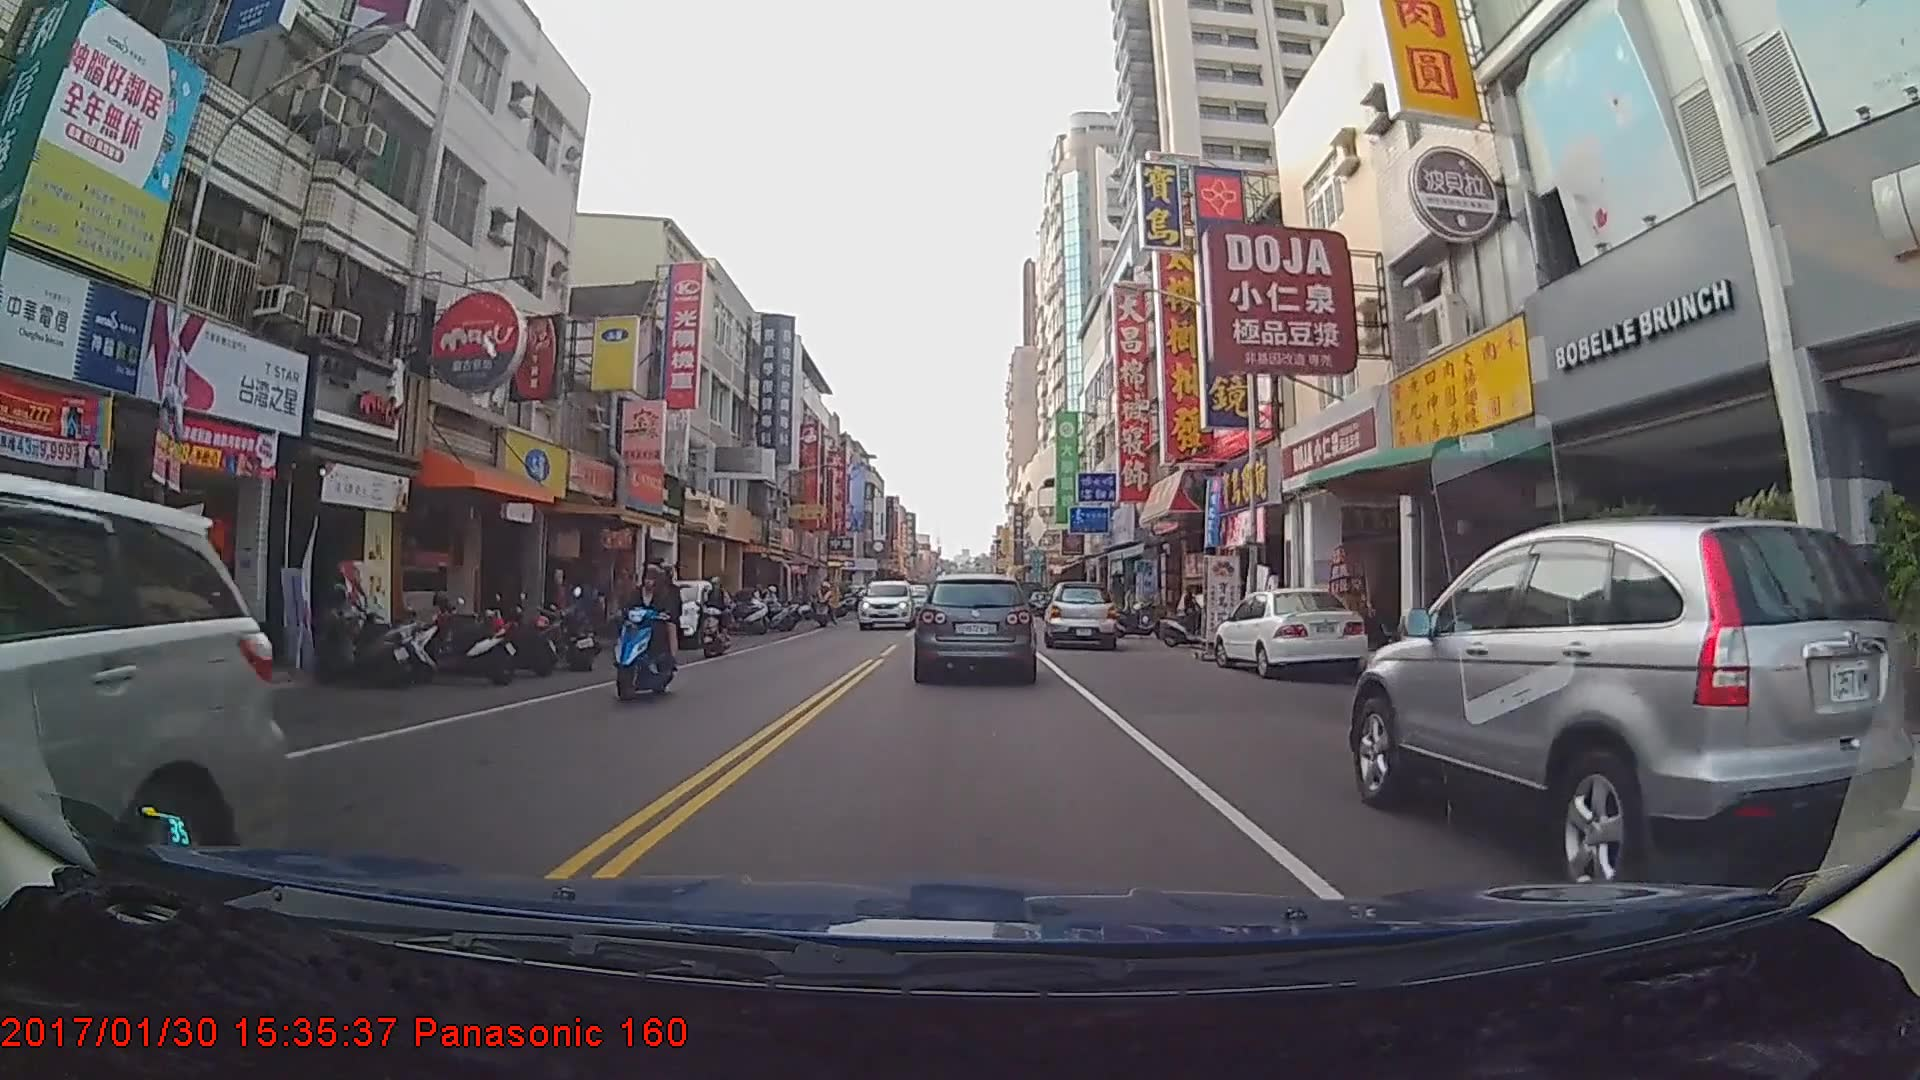rider: (609, 554, 673, 707), (1162, 585, 1222, 650), (698, 572, 728, 658)
vehicle: (1348, 515, 1909, 898), (0, 468, 290, 1035), (1212, 587, 1369, 679), (918, 573, 1035, 681), (618, 578, 732, 649), (1040, 581, 1120, 650), (857, 578, 921, 631)
